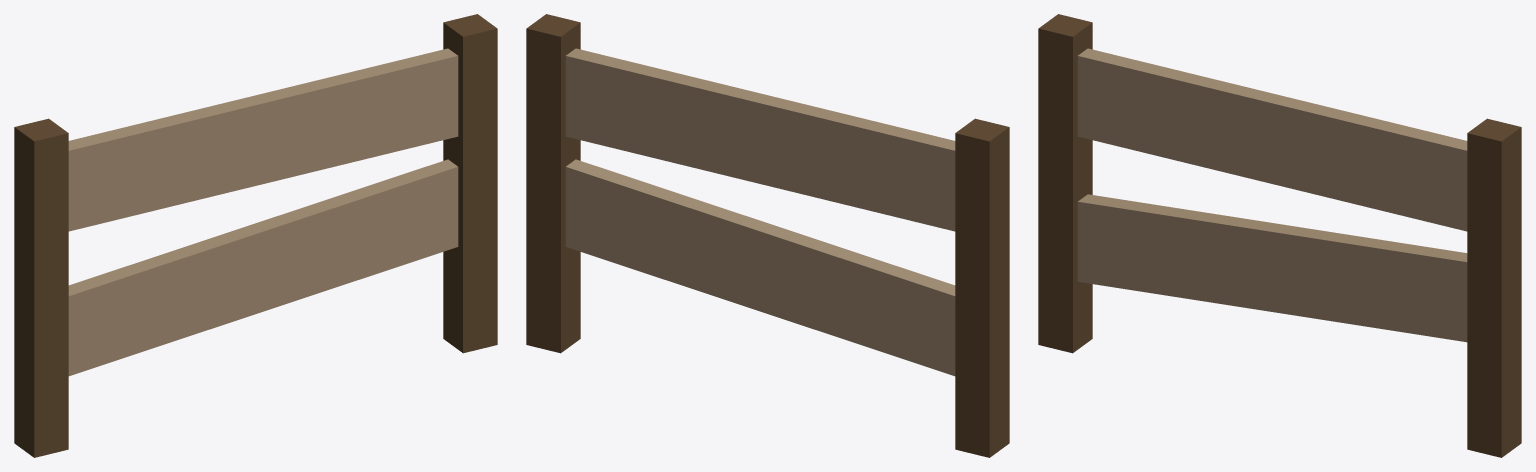
File: fence_02.FBX
The picture shows the model from 3 angles, left to right: view 1: azimuth 30°, elevation 25°; view 2: azimuth 150°, elevation 25°; view 3: azimuth 330°, elevation 25°; orthographic projection.
Parts seen in each view (by area): view 1: fence_02; view 2: fence_02; view 3: fence_02.
Boxes of the visible parts, x1,y1,x2,y2 form: fence_02: [14, 14, 497, 457]; fence_02: [526, 14, 1009, 457]; fence_02: [1038, 14, 1521, 457].
Size of the model in its own units: 78.27 by 51.1 by 5.81.
Materials: 1 (1 with a texture image).
